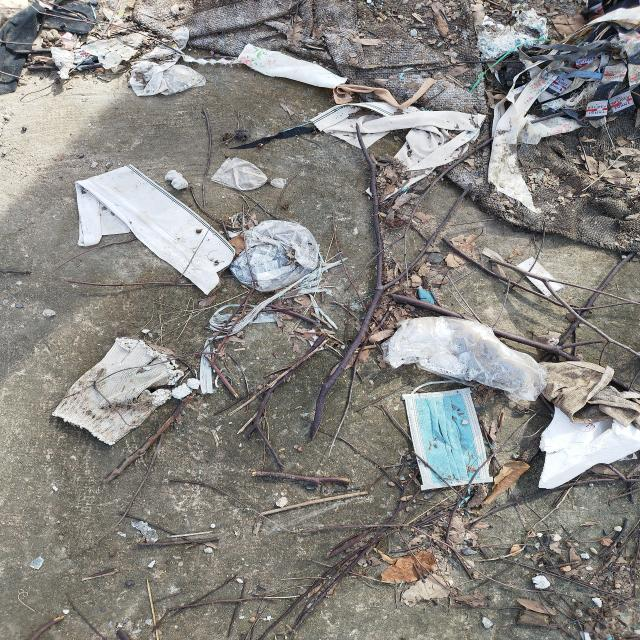bag: (388, 318, 543, 402), (231, 221, 319, 294), (210, 158, 287, 192)
mask: (402, 383, 493, 490)
